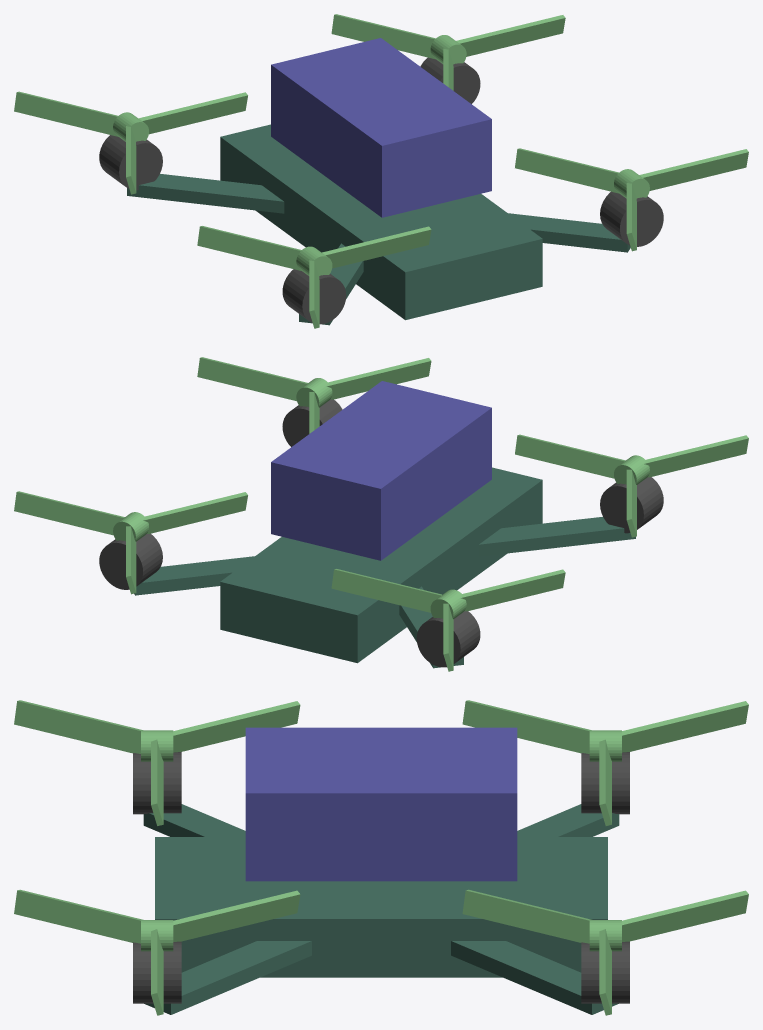
Rendered from TBS Oblivion.glb.
3 renders of one model, top to bottom at view 1: azimuth 30°, elevation 25°; view 2: azimuth 150°, elevation 25°; view 3: azimuth 270°, elevation 25°, orthographic. The views are drawn at different scales.
Visible parts, largest first — view 1: battery, frame_body, prop_2, prop_3, prop_0, prop_1, arm_3, arm_0, motor_2, motor_0, motor_3, motor_1 (+1 smaller); view 2: battery, frame_body, prop_1, prop_3, prop_2, prop_0, arm_2, arm_1, motor_3, motor_1, motor_2, motor_0 (+1 smaller); view 3: battery, frame_body, prop_0, prop_1, prop_2, prop_3, arm_1, arm_0, motor_0, motor_2, motor_1, motor_3 (+2 smaller).
Boxes of the visible parts, left/top/right/bottom form: battery: left=271, top=38, right=491, bottom=217; frame_body: left=220, top=124, right=542, bottom=320; prop_2: left=197, top=226, right=431, bottom=328; prop_3: left=14, top=91, right=247, bottom=194; prop_0: left=515, top=148, right=748, bottom=251; prop_1: left=331, top=14, right=565, bottom=90; arm_3: left=127, top=173, right=284, bottom=213; arm_0: left=508, top=213, right=630, bottom=252; motor_2: left=282, top=269, right=346, bottom=324; motor_0: left=600, top=191, right=663, bottom=246; motor_3: left=99, top=135, right=162, bottom=190; motor_1: left=420, top=57, right=480, bottom=103; battery: left=271, top=381, right=491, bottom=560; frame_body: left=220, top=467, right=542, bottom=663; prop_1: left=14, top=491, right=247, bottom=594; prop_3: left=331, top=569, right=565, bottom=671; prop_2: left=515, top=434, right=748, bottom=537; prop_0: left=197, top=357, right=431, bottom=433; arm_2: left=478, top=516, right=635, bottom=556; arm_1: left=134, top=556, right=254, bottom=595; motor_3: left=416, top=611, right=480, bottom=667; motor_1: left=99, top=533, right=162, bottom=589; motor_2: left=600, top=477, right=663, bottom=533; motor_0: left=282, top=399, right=342, bottom=446; battery: left=245, top=727, right=517, bottom=881; frame_body: left=155, top=837, right=607, bottom=977; prop_0: left=14, top=889, right=300, bottom=1015; prop_1: left=462, top=889, right=748, bottom=1015; prop_2: left=14, top=700, right=300, bottom=825; prop_3: left=462, top=700, right=748, bottom=825; arm_1: left=451, top=941, right=618, bottom=1014; arm_0: left=144, top=941, right=311, bottom=1014; motor_0: left=133, top=941, right=181, bottom=1003; motor_2: left=133, top=752, right=181, bottom=814; motor_1: left=581, top=941, right=629, bottom=1003; motor_3: left=581, top=752, right=629, bottom=814.
Size of the model in its own units: 0.2153 by 0.06 by 0.2271.
